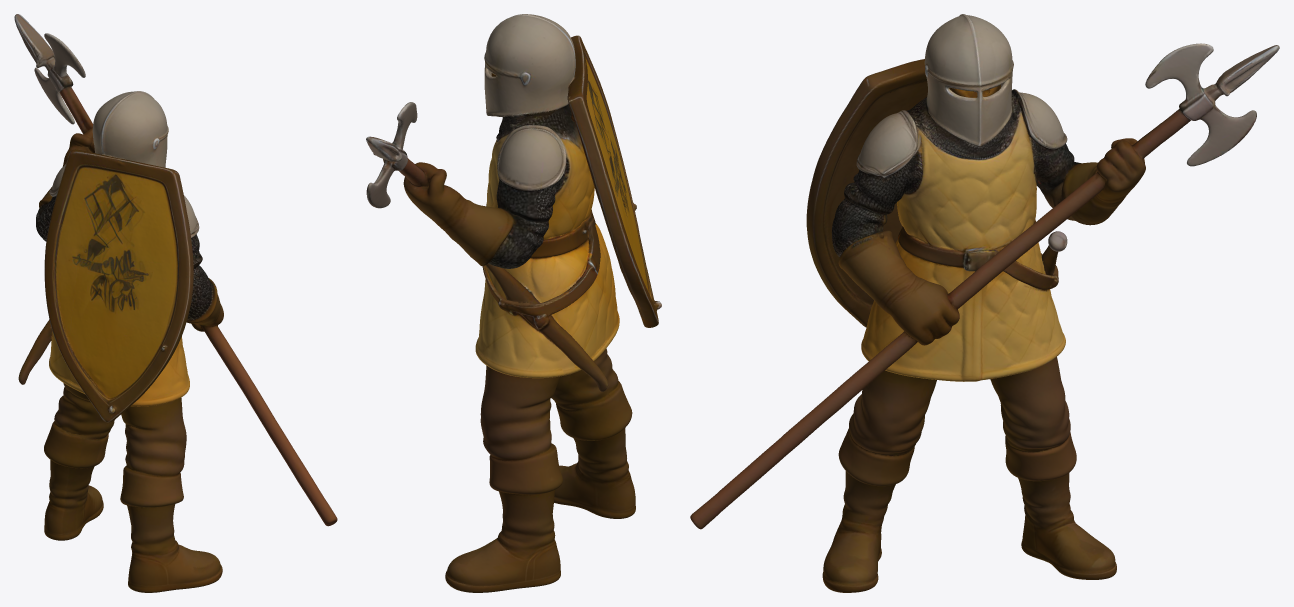
File: Orange-Hoplite-figure.glb
The picture shows the model from 3 angles, left to right: view 1: azimuth 30°, elevation 25°; view 2: azimuth 150°, elevation 25°; view 3: azimuth 270°, elevation 25°; orthographic projection. The views are drawn at different scales.
Visible parts, largest first — view 1: tripo_node_18f5fa29-fe74-4fcd-8c3c-00726cefc422; view 2: tripo_node_18f5fa29-fe74-4fcd-8c3c-00726cefc422; view 3: tripo_node_18f5fa29-fe74-4fcd-8c3c-00726cefc422.
Part boxes in pixels (left/top/right/bottom): tripo_node_18f5fa29-fe74-4fcd-8c3c-00726cefc422: left=14, top=14, right=337, bottom=592; tripo_node_18f5fa29-fe74-4fcd-8c3c-00726cefc422: left=366, top=14, right=661, bottom=592; tripo_node_18f5fa29-fe74-4fcd-8c3c-00726cefc422: left=690, top=14, right=1279, bottom=592.
Bounding box in the file's own units: 0.4257 × 1 × 0.9635.
Materials: 1 (1 with a texture image).
